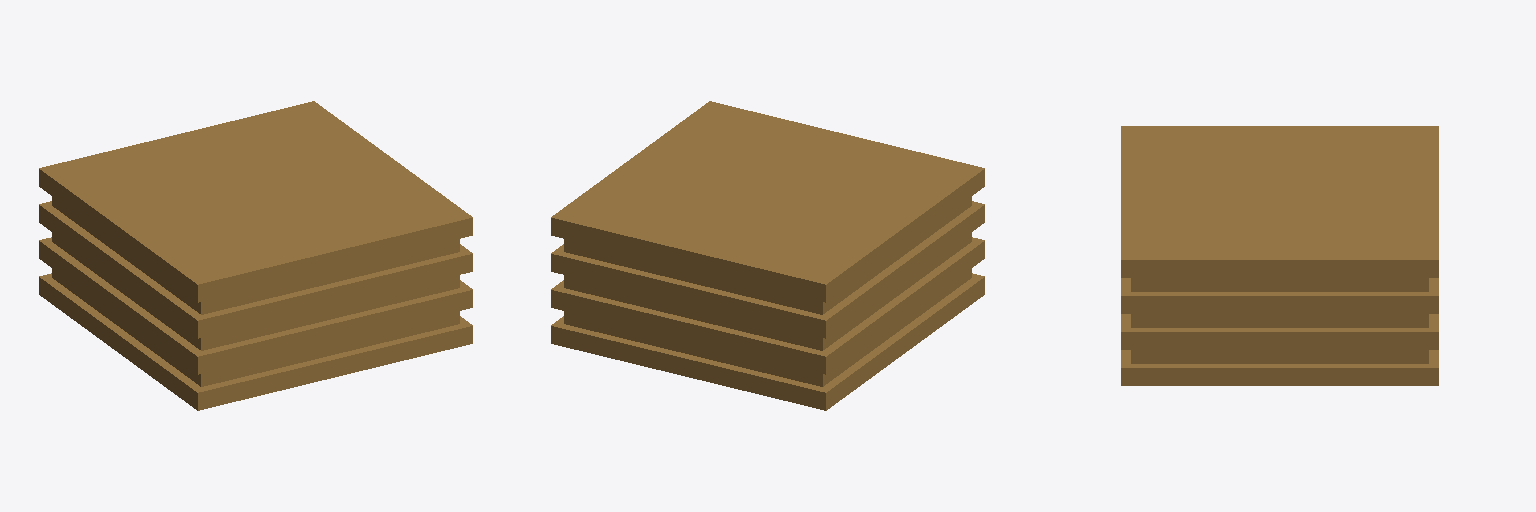
Rendered from Wafer.obj.
The picture shows the model from 3 angles: view 1: azimuth 30°, elevation 25°; view 2: azimuth 150°, elevation 25°; view 3: azimuth 270°, elevation 25°; orthographic projection.
Parts seen in each view (by area): view 1: Union1; view 2: Union1; view 3: Union1.
Boxes of the visible parts, <box> form: Union1: <box>39,101,472,410</box>; Union1: <box>551,101,984,410</box>; Union1: <box>1121,126,1438,385</box>.
Bounding box in the file's own units: 4 × 1.75 × 4.